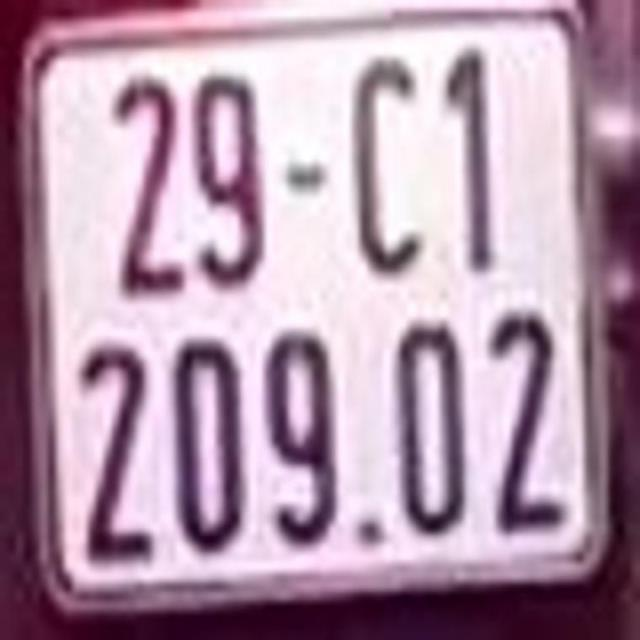0: (398, 314, 478, 533), (170, 336, 248, 549)
1: (451, 46, 516, 276)
2: (74, 342, 167, 566), (488, 313, 571, 538), (112, 70, 193, 300)
9: (266, 328, 349, 550), (197, 71, 269, 292)
C: (351, 58, 436, 280)
